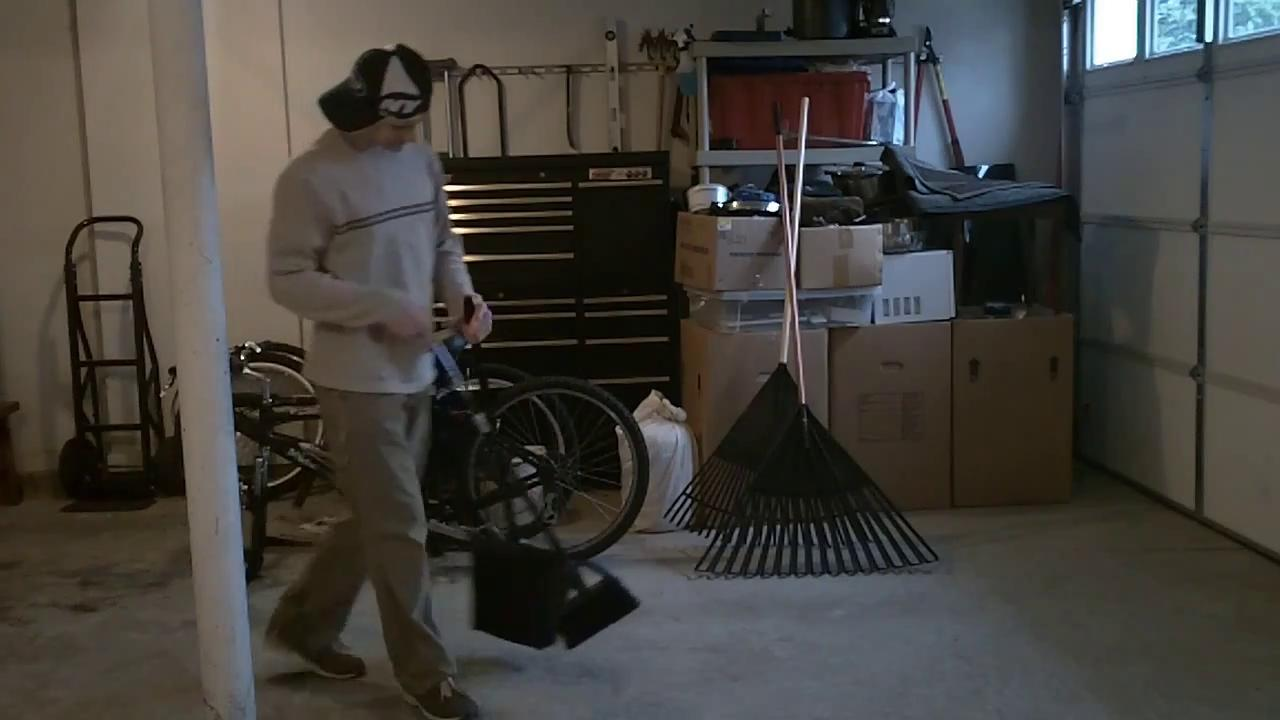victim: (248, 41, 493, 720)
